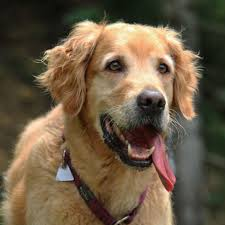Golden Retriever: (8, 6, 205, 225)
